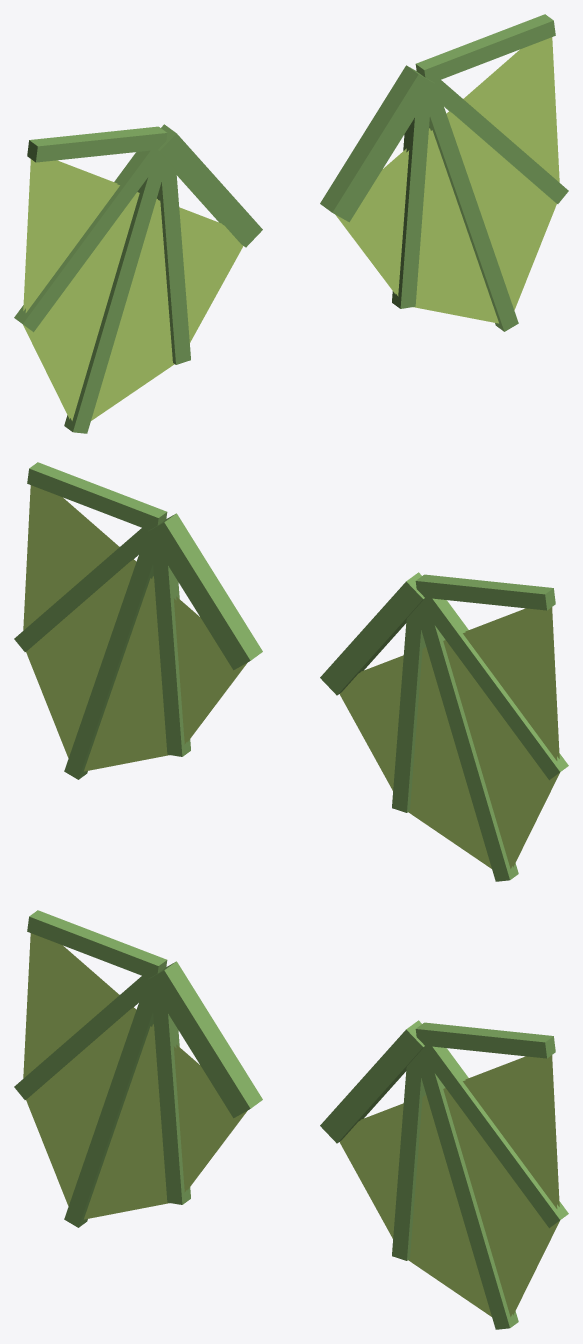
The model's file is asas_dragao_pequenas.glb.
3 views of the same model, one above another, from view 1: azimuth 30°, elevation 25°; view 2: azimuth 150°, elevation 25°; view 3: azimuth 330°, elevation 25° (orthographic).
Visible parts, largest first — view 1: asas_dragao_pequenas; view 2: asas_dragao_pequenas; view 3: asas_dragao_pequenas.
Boxes of the visible parts, left/top/right/bottom form: asas_dragao_pequenas: left=14, top=14, right=568, bottom=433; asas_dragao_pequenas: left=14, top=462, right=568, bottom=881; asas_dragao_pequenas: left=14, top=910, right=568, bottom=1329.
Size of the model in its own units: 1.27 by 0.6629 by 0.05.
